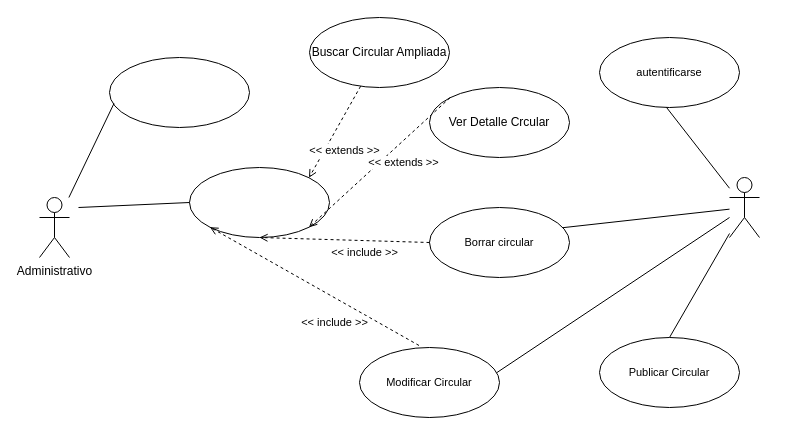
This 809x436 diagram has some shape labels left out. The centre of each missing label's shape, as x and y in pixels:
"Buscar Circular" belongs at (259,202).
"ResponsableDept" belongs at (744,207).
"Suscribirse" belongs at (179,92).
